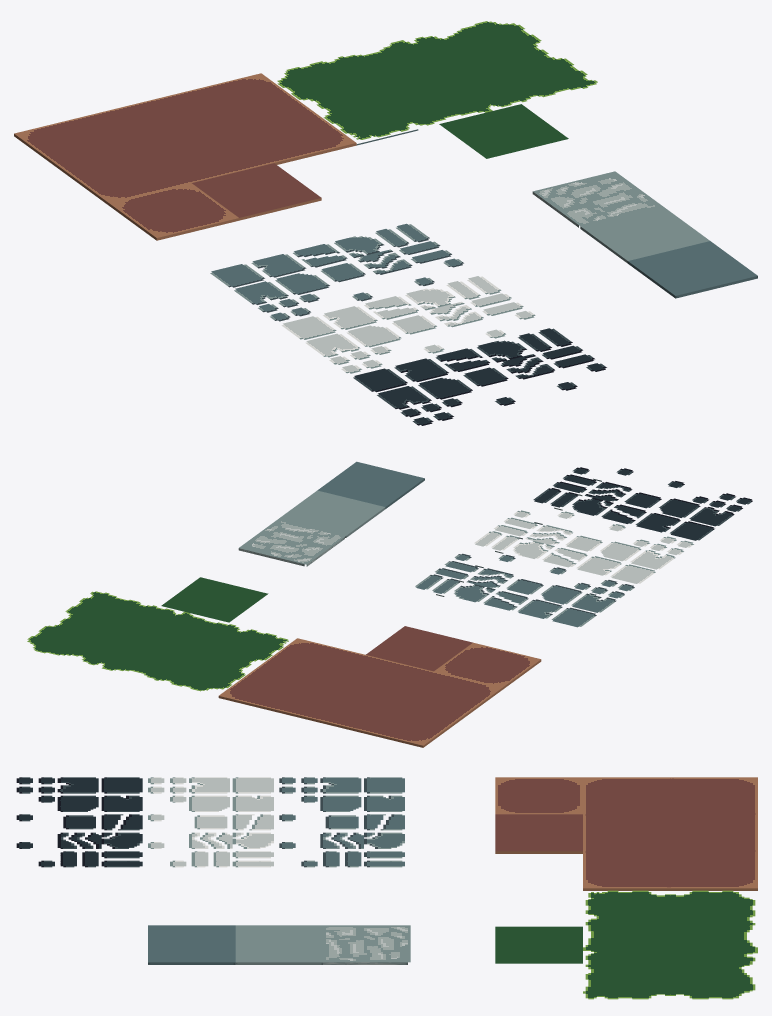
Rendered from Floor Tile Set.gltf.
The picture shows the model from 3 angles, top to bottom: view 1: azimuth 30°, elevation 25°; view 2: azimuth 150°, elevation 25°; view 3: azimuth 270°, elevation 25°; orthographic projection. The views are drawn at different scales.
Visible parts, largest first — view 1: cube (×27), Center (×2), Bottom (×2), Bottom Left (×2), Top (×2), Top Left (×2), Center Bordered, Bottom RIght, Top RIght, Bottom Right, Top Right; view 2: cube (×24), Center (×2), Top (×2), Top Left (×2), Bottom (×2), Bottom Left (×2), Top RIght, Center Bordered, Bottom RIght, Bottom Right, Top Right; view 3: cube (×36), Center (×2), Bottom (×2), Top (×2), Bottom Left (×2), Top Left (×2), Top RIght, Bottom RIght, Center Bordered, Bottom Right, Top Right.
Boxes of the visible parts, x1,y1,x2,y2 form: cube (×27): (210,171,757,409); Center (×2): (192,104,568,220); Bottom (×2): (144,69,517,182); Bottom Left (×2): (61,89,435,205); Top (×2): (96,36,473,148); Top Left (×2): (14,56,390,170); Center Bordered: (109,183,239,240); Bottom RIght: (227,108,356,164); Top RIght: (179,73,308,127); Bottom Right: (474,51,597,102); Top Right: (429,21,545,68); cube (×24): (238,461,734,627); Center (×2): (161,577,472,671); Top (×2): (85,635,393,731); Top Left (×2): (153,651,462,747); Bottom (×2): (122,608,433,700); Bottom Left (×2): (190,624,501,718); Top RIght: (218,667,325,714); Center Bordered: (434,642,541,689); Bottom RIght: (258,638,365,683); Bottom Right: (62,591,157,634); Top Right: (27,620,121,661); cube (×36): (16,777,410,964); Center (×2): (495,814,582,963); Bottom (×2): (583,814,670,963); Top (×2): (670,814,757,963); Bottom Left (×2): (583,777,670,926); Top Left (×2): (670,777,757,926); Top RIght: (670,851,757,890); Bottom RIght: (583,851,670,890); Center Bordered: (495,777,582,814); Bottom Right: (583,963,670,999); Top Right: (670,963,755,999).
Size of the model in its own units: 12 by 0.0938 by 17.
1 material, 1 textured.
